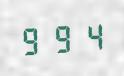four: (77, 18, 105, 52)
nine: (18, 23, 46, 57), (48, 21, 76, 54)
